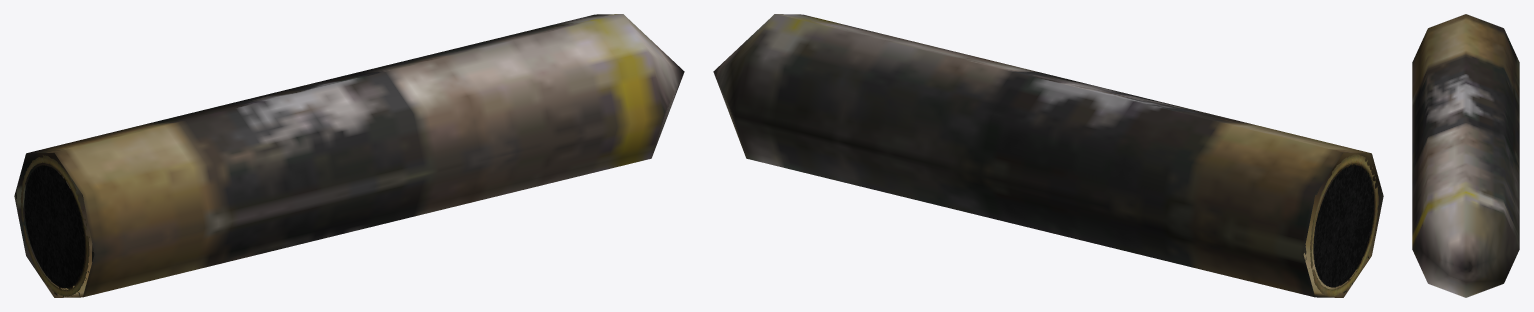
The model's file is t6_wpn_launch_smaw_missile_LOD0.obj.
3 renders of one model, left to right at view 1: azimuth 30°, elevation 25°; view 2: azimuth 150°, elevation 25°; view 3: azimuth 270°, elevation 25°, orthographic. The views are drawn at different scales.
Parts seen in each view (by area): view 1: mtl_t6_wpn_launch_smaw; view 2: mtl_t6_wpn_launch_smaw; view 3: mtl_t6_wpn_launch_smaw.
Part boxes in pixels (box(x1,y1,x2,y2)): mtl_t6_wpn_launch_smaw: box(14, 14, 684, 297); mtl_t6_wpn_launch_smaw: box(713, 14, 1383, 297); mtl_t6_wpn_launch_smaw: box(1412, 14, 1519, 297).
Size of the model in its own units: 32.53 by 7.16 by 7.16.
